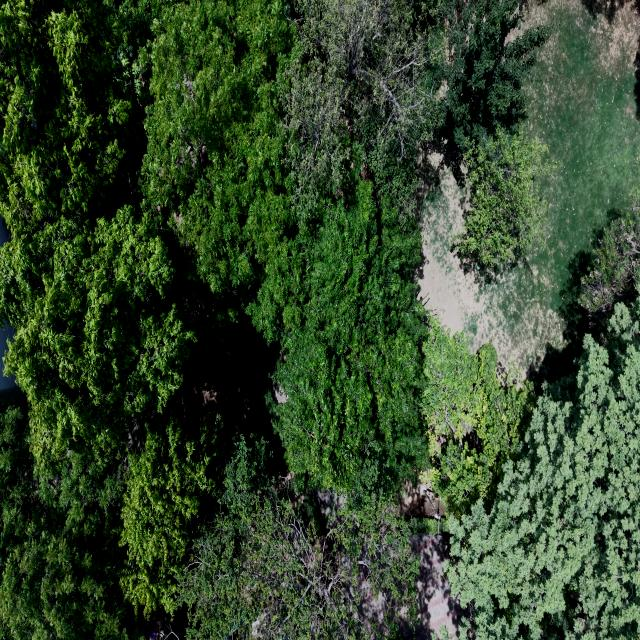VEGETATION_TREE: (0, 0, 639, 639), (0, 2, 226, 637), (247, 2, 443, 490), (6, 206, 225, 536), (447, 302, 639, 638), (487, 0, 639, 388), (273, 174, 428, 490), (142, 0, 294, 318), (180, 441, 416, 639), (280, 0, 445, 211), (0, 407, 138, 639), (420, 321, 531, 515), (119, 416, 216, 616), (443, 0, 548, 151), (453, 127, 552, 273), (578, 189, 639, 317), (633, 37, 639, 118)
WATERBODY: (420, 0, 639, 371)
